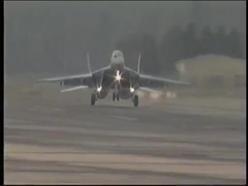aircraft: (39, 49, 193, 108)
